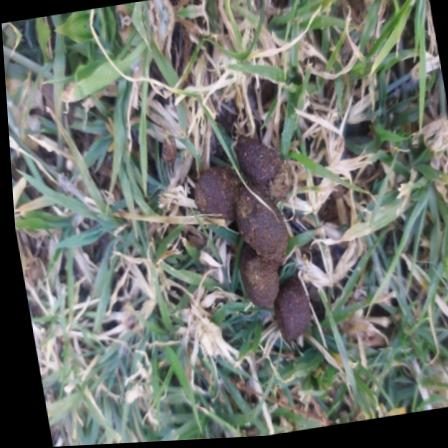dog-poop: (181, 143, 325, 353)
